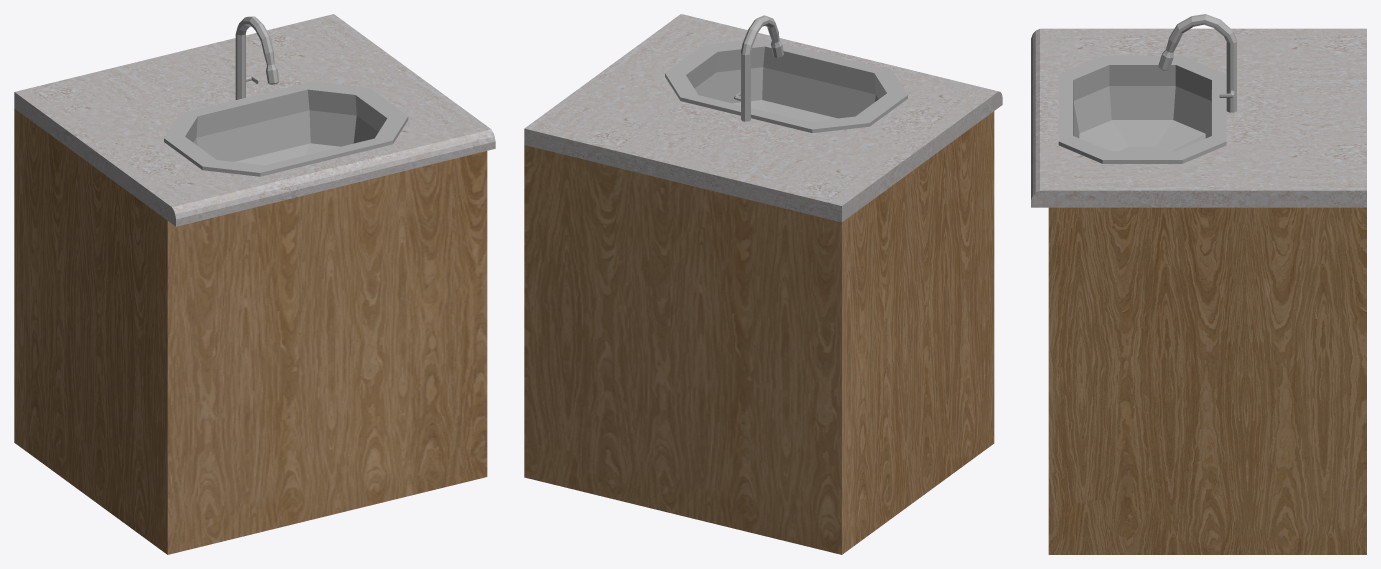
Rendered from Kärpänen_Keittiö_Ilmankaappia_Hana.fbx.
The picture shows the model from 3 angles, left to right: view 1: azimuth 30°, elevation 25°; view 2: azimuth 150°, elevation 25°; view 3: azimuth 270°, elevation 25°; orthographic projection. The views are drawn at different scales.
Parts seen in each view (by area): view 1: Cube.002, Cube.034, Cube.035; view 2: Cube.002, Cube.034, Cube.035; view 3: Cube.002, Cube.034, Cube.035.
Part boxes in pixels (x1,y1,x2,y2): Cube.002: (14,14,495,554); Cube.034: (164,81,408,176); Cube.035: (235,16,278,99); Cube.002: (524,14,1002,554); Cube.034: (665,38,907,133); Cube.035: (741,15,783,121); Cube.002: (1031,28,1366,554); Cube.034: (1058,55,1226,163); Cube.035: (1158,14,1236,112).
Bounding box in the file's own units: 2531 × 3355 × 2218.
Materials: 4 (2 with a texture image).
